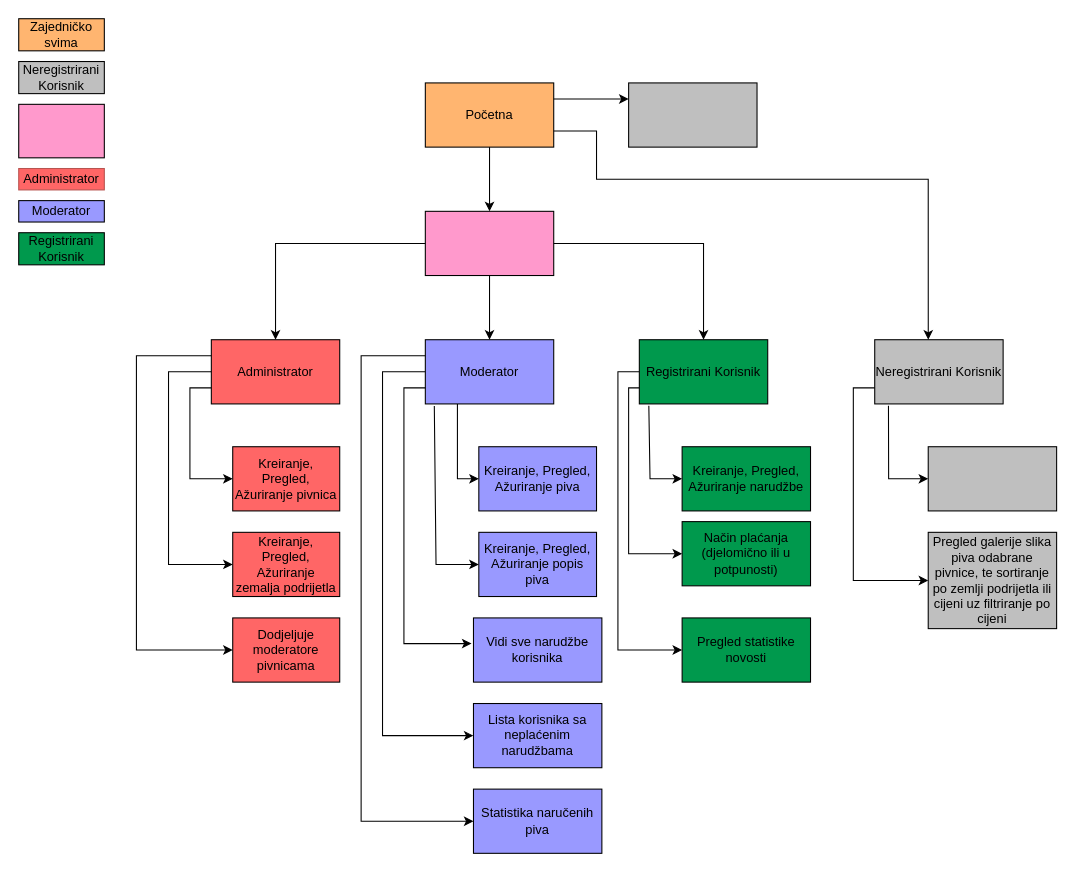
This 1075x872 diagram has some shape labels left out. Here are the shapes that lost their labels. From the top down, the box of each, then its label:
(18, 103, 104, 158): Svi osim neregistriranih korisnika
(628, 82, 757, 147): Registracija
(424, 210, 554, 276): Prijava
(927, 446, 1057, 511): Pregled rang liste broja naručenih piva
